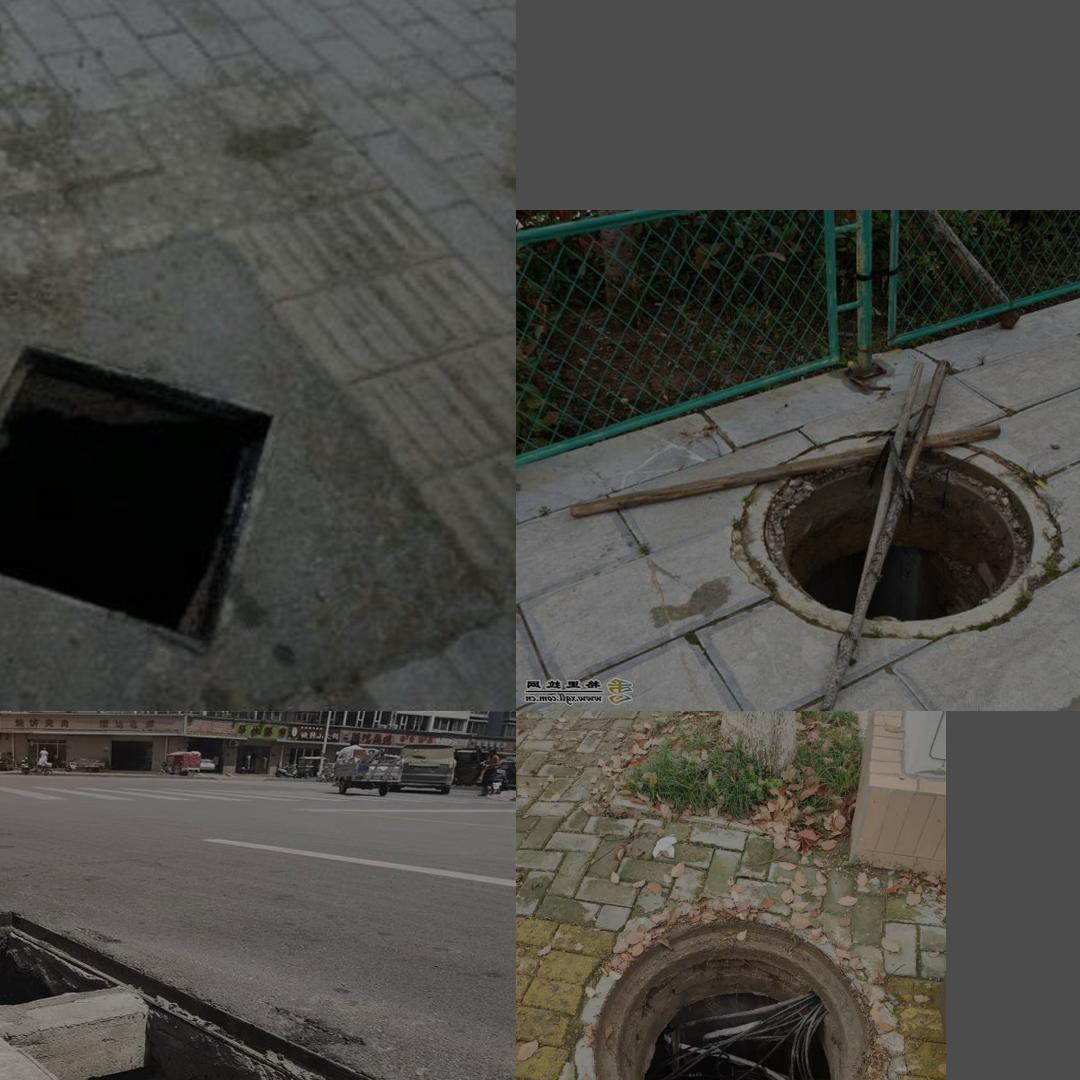lose: (0, 343, 292, 648), (0, 904, 427, 1080), (733, 422, 1049, 631), (574, 909, 886, 1080)
